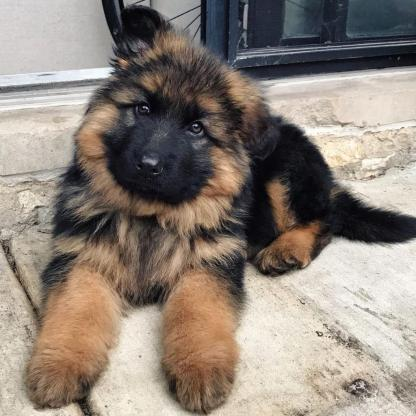dog: (21, 8, 415, 416)
